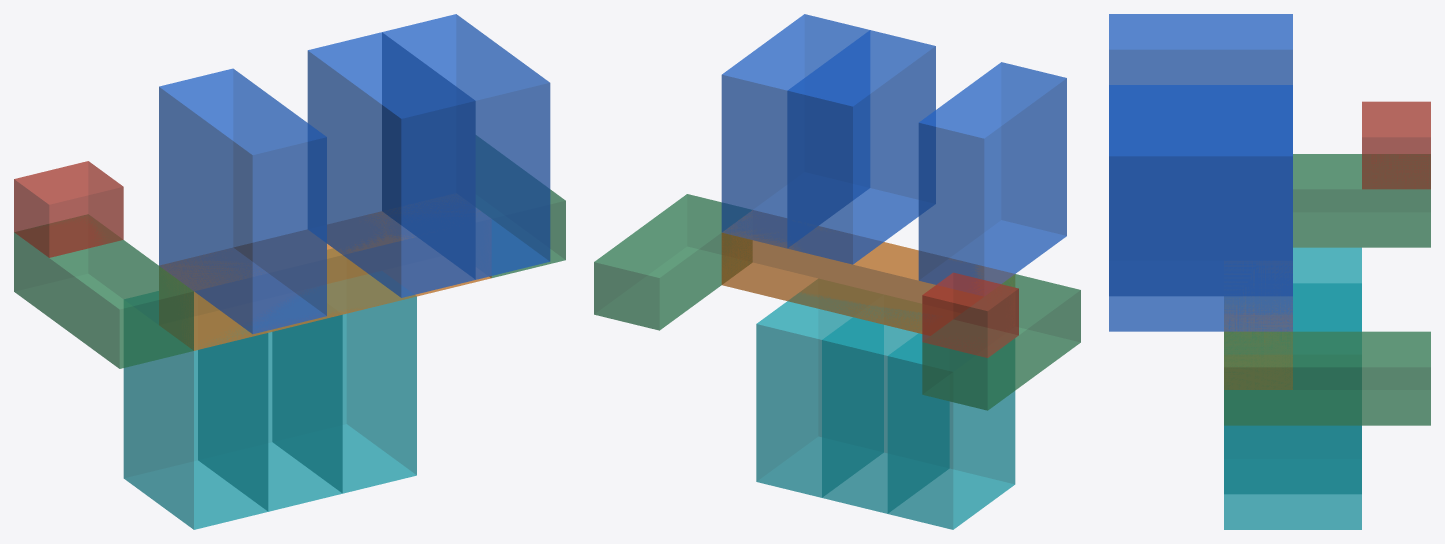
Rendered from slab_03.obj.
3 renders of one model, left to right at view 1: azimuth 30°, elevation 25°; view 2: azimuth 150°, elevation 25°; view 3: azimuth 270°, elevation 25°, orthographic. The views are drawn at different scales.
Visible parts, largest first — view 1: K_0_3, K_0_2, K_0_0, F_0_0, F_0_2, F_0_1, corridor_0, stair_W, entrance, stair_E; view 2: K_0_2, K_0_3, K_0_0, F_0_2, F_0_1, F_0_0, corridor_0, stair_W, stair_E, entrance; view 3: K_0_3, K_0_2, stair_E, K_0_0, F_0_2, stair_W, F_0_1, entrance, corridor_0, F_0_0.
Part boxes in pixels (bbox=[...]): K_0_3: bbox=[382, 14, 550, 279]; K_0_2: bbox=[307, 32, 475, 297]; K_0_0: bbox=[159, 68, 326, 334]; F_0_0: bbox=[123, 291, 268, 529]; F_0_2: bbox=[272, 249, 416, 493]; F_0_1: bbox=[198, 303, 342, 511]; corridor_0: bbox=[159, 208, 491, 350]; stair_W: bbox=[14, 214, 193, 368]; entrance: bbox=[14, 161, 123, 257]; stair_E: bbox=[476, 136, 565, 277]; K_0_2: bbox=[787, 30, 935, 264]; K_0_3: bbox=[721, 14, 869, 248]; K_0_0: bbox=[918, 62, 1066, 294]; F_0_2: bbox=[756, 279, 883, 497]; F_0_1: bbox=[822, 295, 949, 513]; F_0_0: bbox=[887, 331, 1015, 529]; corridor_0: bbox=[721, 210, 1014, 335]; stair_W: bbox=[922, 274, 1080, 410]; stair_E: bbox=[594, 194, 752, 330]; entrance: bbox=[922, 272, 1018, 357]; K_0_3: bbox=[1109, 120, 1292, 331]; K_0_2: bbox=[1109, 85, 1292, 295]; stair_E: bbox=[1224, 331, 1430, 425]; K_0_0: bbox=[1109, 14, 1292, 119]; F_0_2: bbox=[1224, 319, 1361, 529]; stair_W: bbox=[1293, 154, 1430, 247]; F_0_1: bbox=[1224, 283, 1361, 493]; entrance: bbox=[1362, 101, 1430, 189]; corridor_0: bbox=[1224, 297, 1292, 389]; F_0_0: bbox=[1293, 247, 1361, 318].
Size of the model in its own units: 21.96 by 19.64 by 14.
